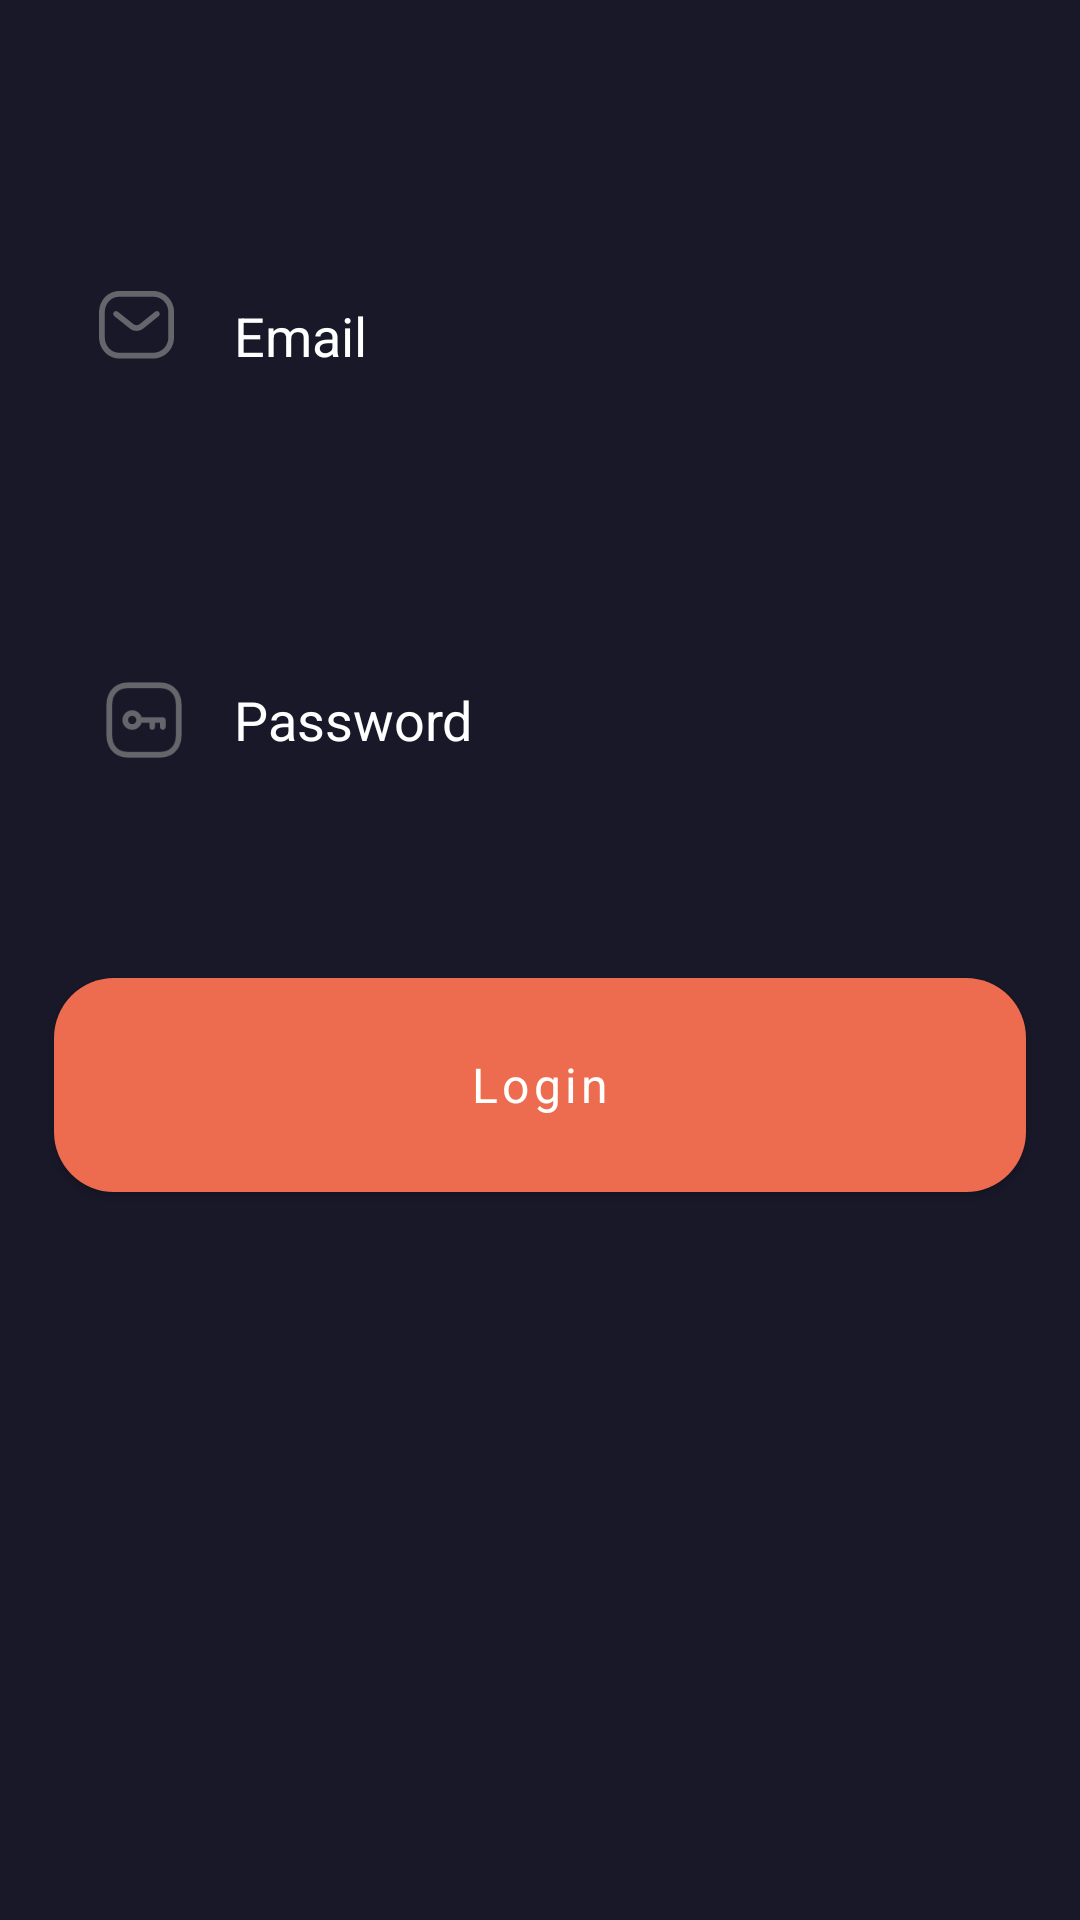

Icon bounding boxes for this 1080px x 1920px phone screenshot, format (x1, y1, x2, y2):
message: (99, 291, 174, 359)
